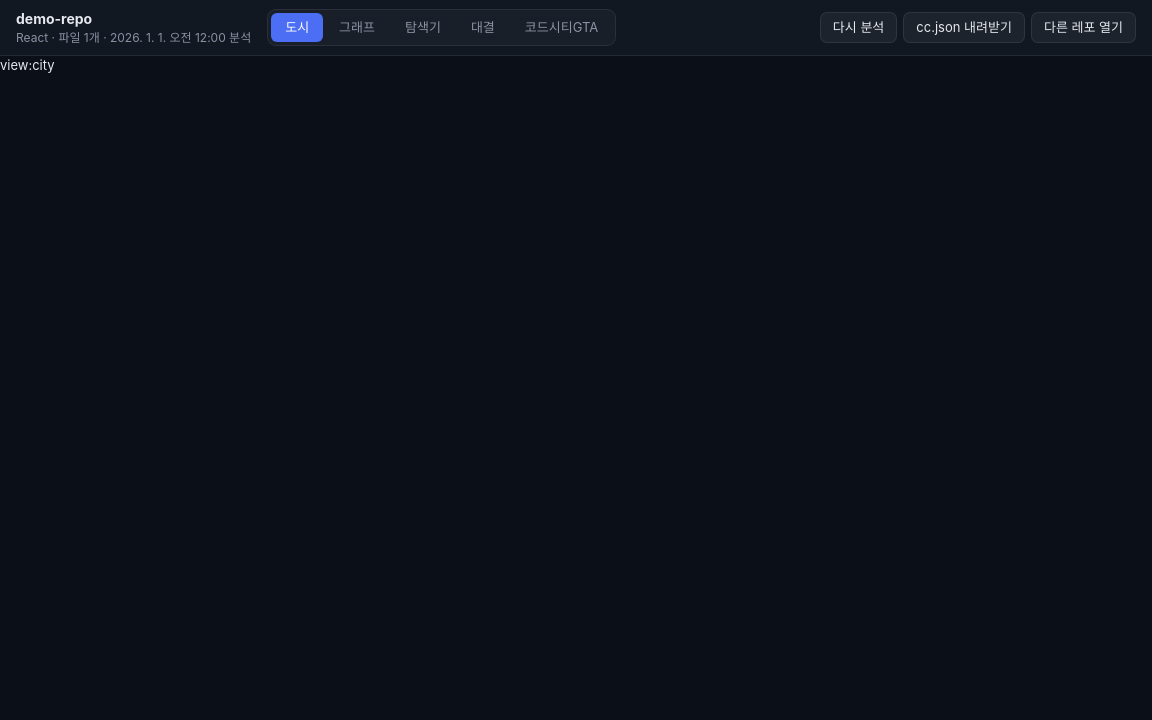
the 대결 tab sits between 탐색기 and 코드시티GTA and mounts the battle view
Expected: the text "view:city" is shown, [0,57,55,73]
Click the tab "대결": (483,28) [457,13,509,42]
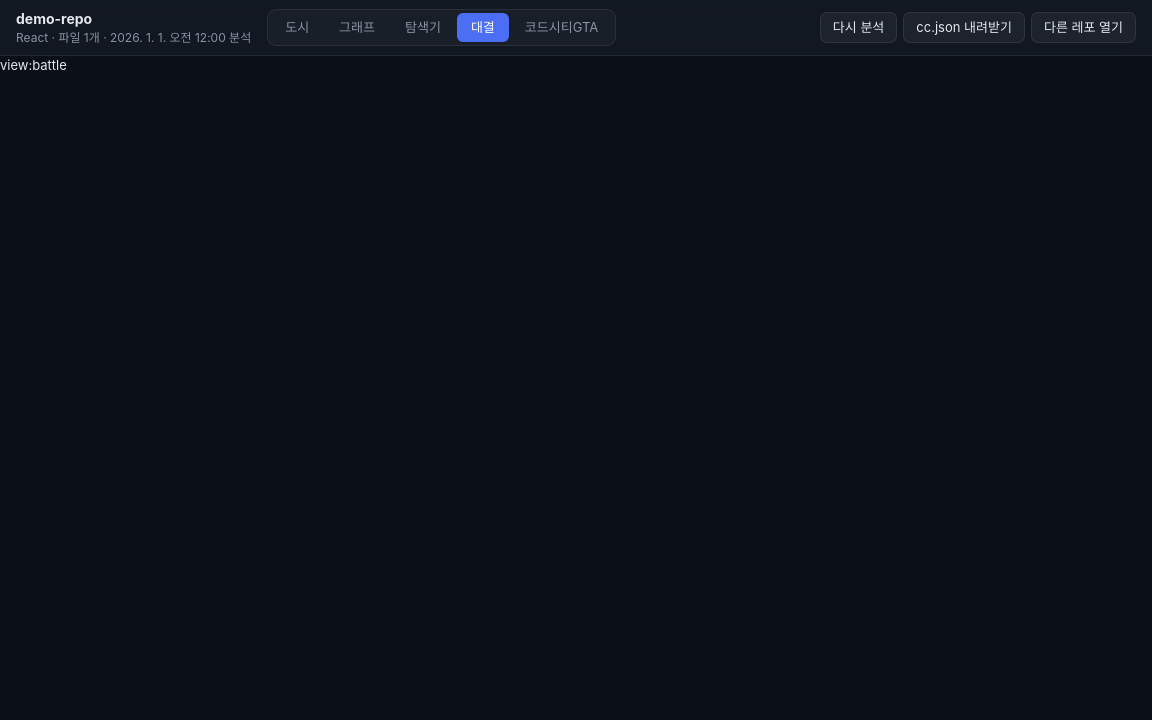
Expected: the text "view:battle" is shown, [0,57,67,73]
